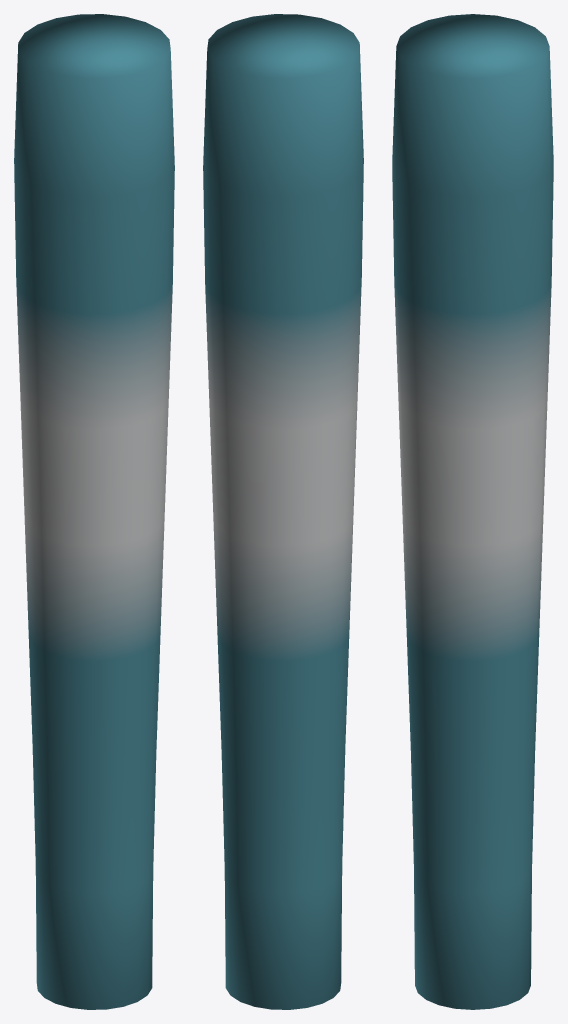
The model's file is sock.glb.
The picture shows the model from 3 angles, left to right: view 1: azimuth 30°, elevation 25°; view 2: azimuth 150°, elevation 25°; view 3: azimuth 270°, elevation 25°; orthographic projection.
Visible parts, largest first — view 1: sock2; view 2: sock2; view 3: sock2.
Part boxes in pixels (<box>): sock2: <box>14,14,174,1009</box>; sock2: <box>203,14,363,1009</box>; sock2: <box>392,14,553,1009</box>.
Bounding box in the file's own units: 0.156 × 1 × 0.156.
